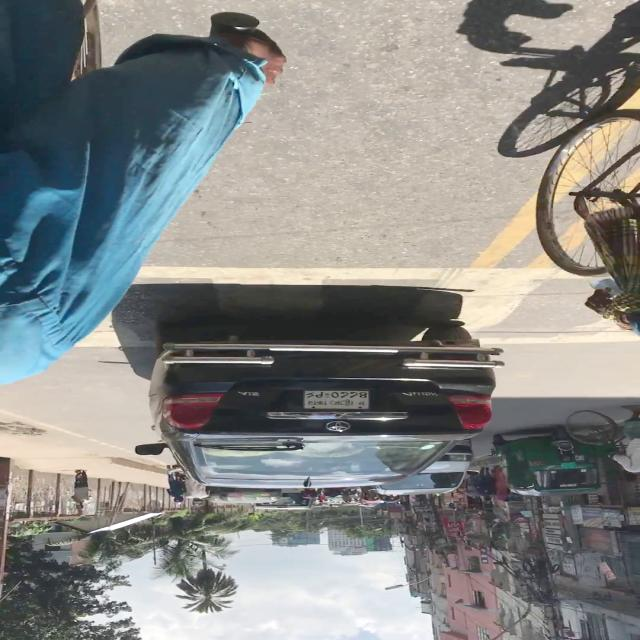black: (140, 327, 512, 495)
